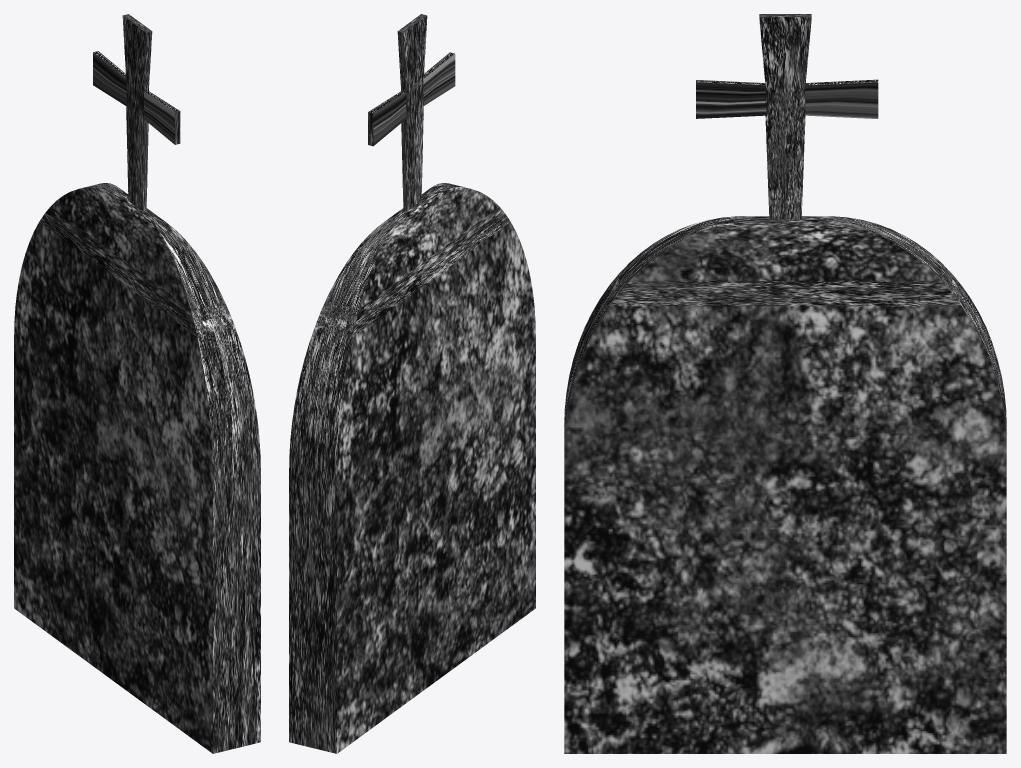
Rendered from graveyard.obj.
3 renders of one model, left to right at view 1: azimuth 30°, elevation 25°; view 2: azimuth 150°, elevation 25°; view 3: azimuth 270°, elevation 25°, orthographic. The views are drawn at different scales.
Visible parts, largest first — view 1: Cube.006_Cube.016, Cube.005_Cube.015; view 2: Cube.006_Cube.016, Cube.005_Cube.015; view 3: Cube.006_Cube.016, Cube.005_Cube.015.
Part boxes in pixels (x1,y1,x2,y2): Cube.006_Cube.016: (14,183,260,753); Cube.005_Cube.015: (93,14,180,211); Cube.006_Cube.016: (289,183,535,753); Cube.005_Cube.015: (368,14,455,211); Cube.006_Cube.016: (564,216,1006,753); Cube.005_Cube.015: (696,14,878,219).
Bounding box in the file's own units: 0.1133 × 1.47 × 0.8152.
